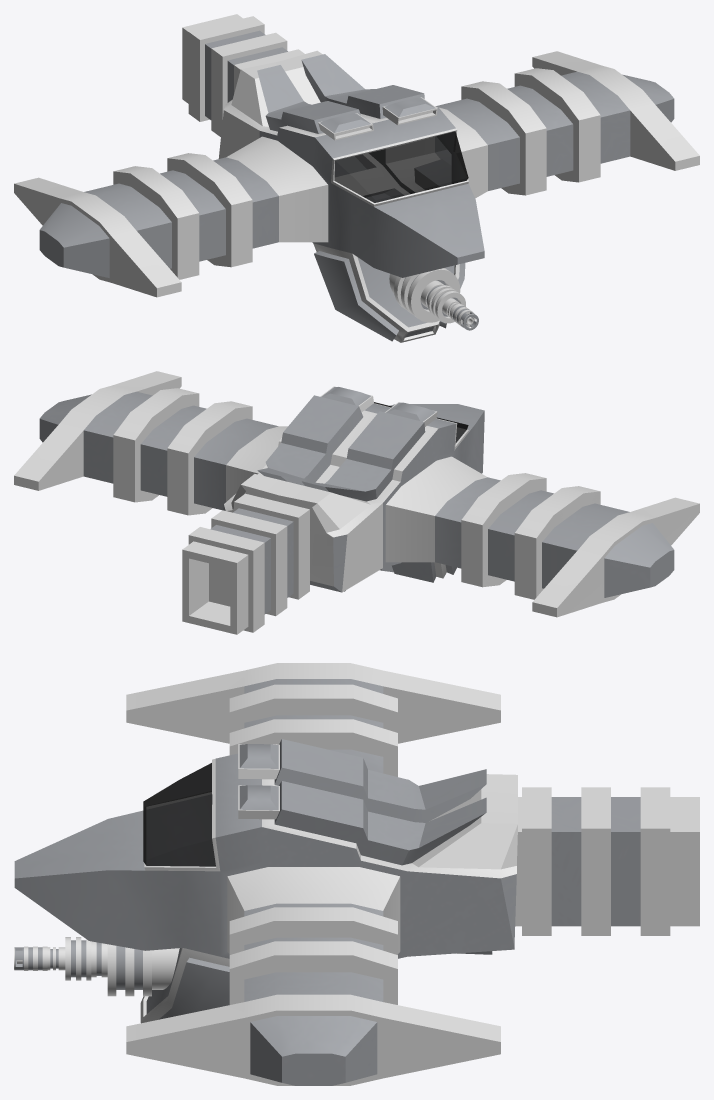
File: CBA.fbx
3 views of the same model, one above another, from view 1: azimuth 30°, elevation 25°; view 2: azimuth 150°, elevation 25°; view 3: azimuth 270°, elevation 25° (orthographic). The views are drawn at different scales.
Visible parts, largest first — view 1: CBA; view 2: CBA; view 3: CBA.
Part boxes in pixels (box(x1,y1,x2,y2)): CBA: box(14, 14, 699, 342); CBA: box(14, 371, 699, 634); CBA: box(14, 663, 699, 1085).
Size of the model in its own units: 8.9 by 2.8 by 6.6.
